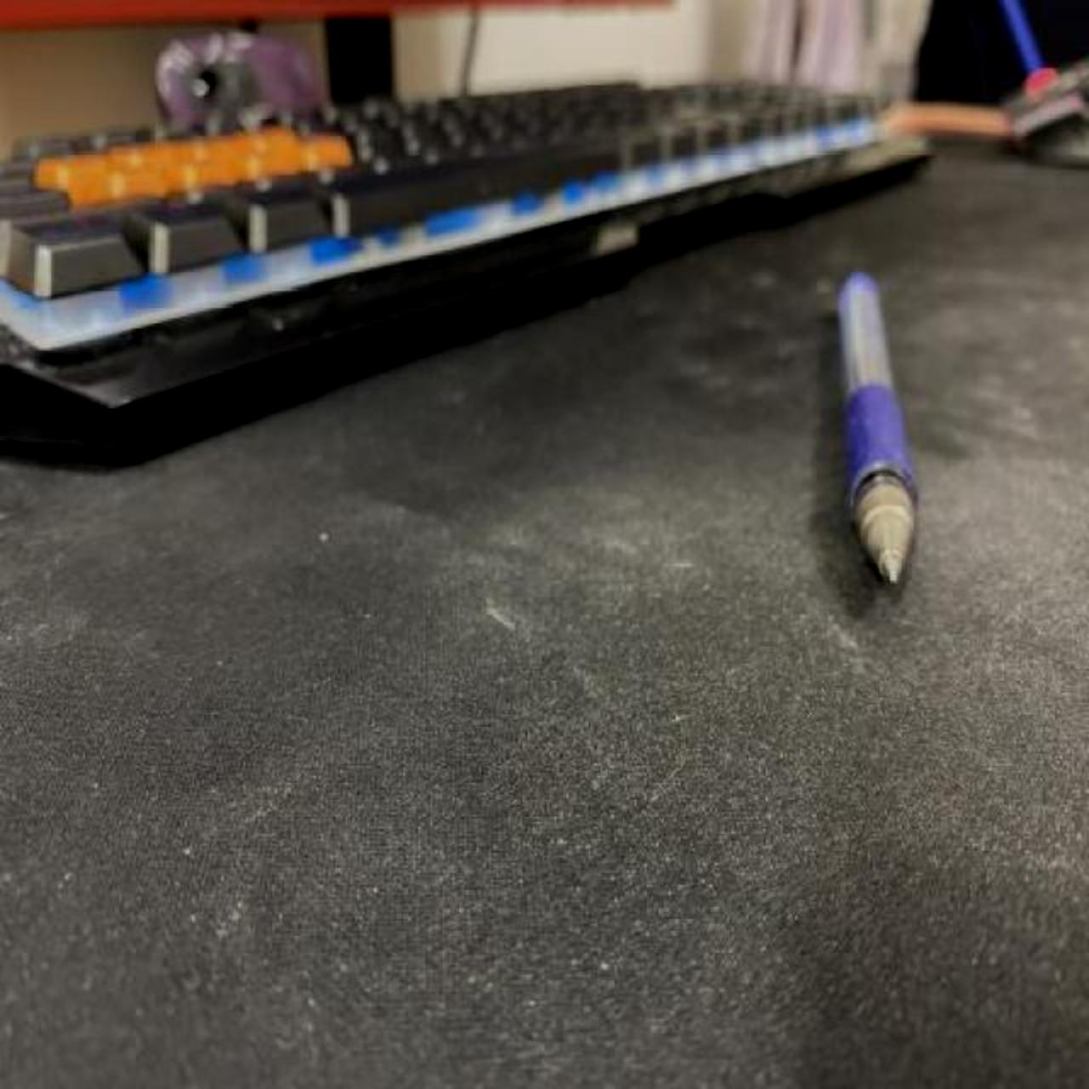pen: (834, 267, 929, 585)
